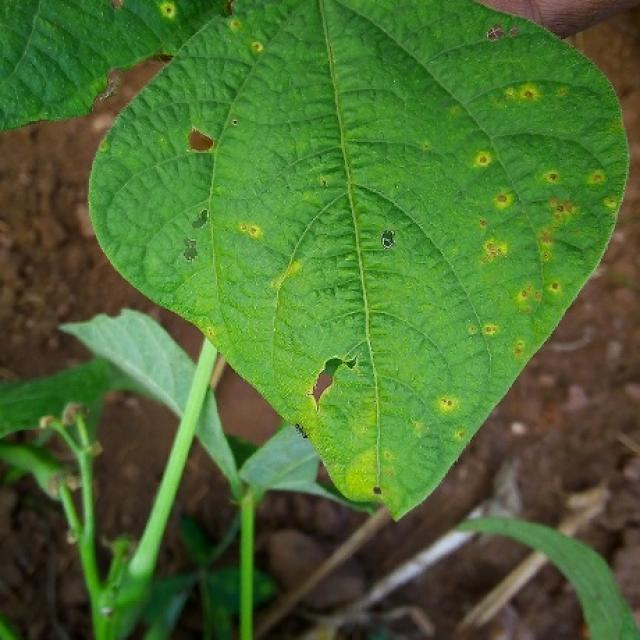mozaik: (264, 326, 392, 450), (159, 101, 242, 187)
